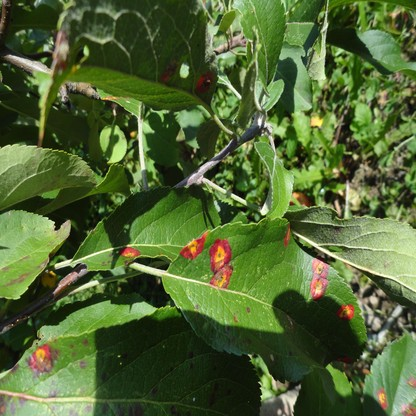rust: (209, 239, 232, 288), (29, 345, 58, 378), (311, 256, 330, 298), (181, 231, 208, 257), (161, 58, 180, 80), (195, 74, 214, 93), (336, 303, 354, 320), (119, 246, 139, 257), (377, 387, 388, 407), (400, 403, 416, 415), (11, 272, 28, 282), (284, 225, 289, 245), (407, 376, 416, 387), (0, 404, 6, 412)
